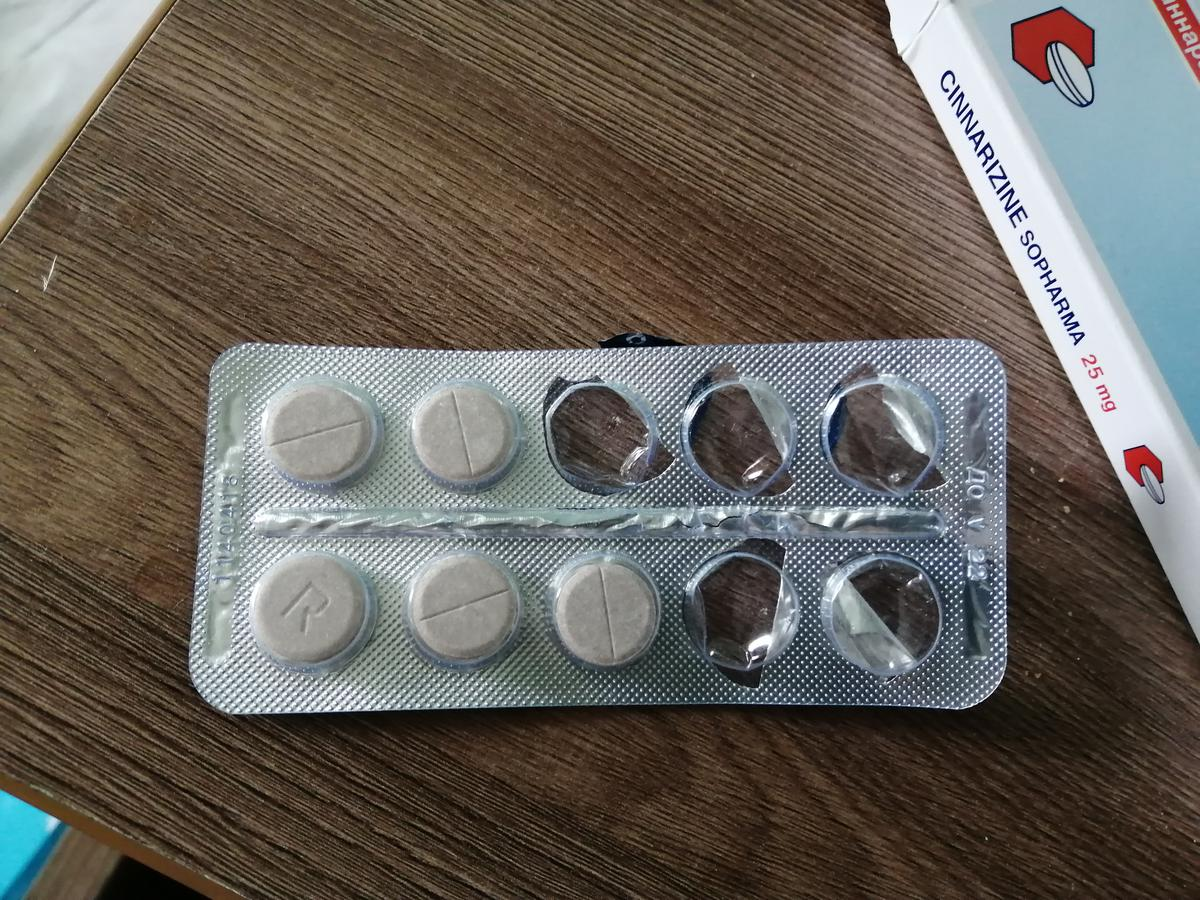tablet: (254, 554, 373, 673), (407, 553, 525, 671), (267, 380, 379, 492), (551, 556, 662, 667), (410, 381, 520, 491)
